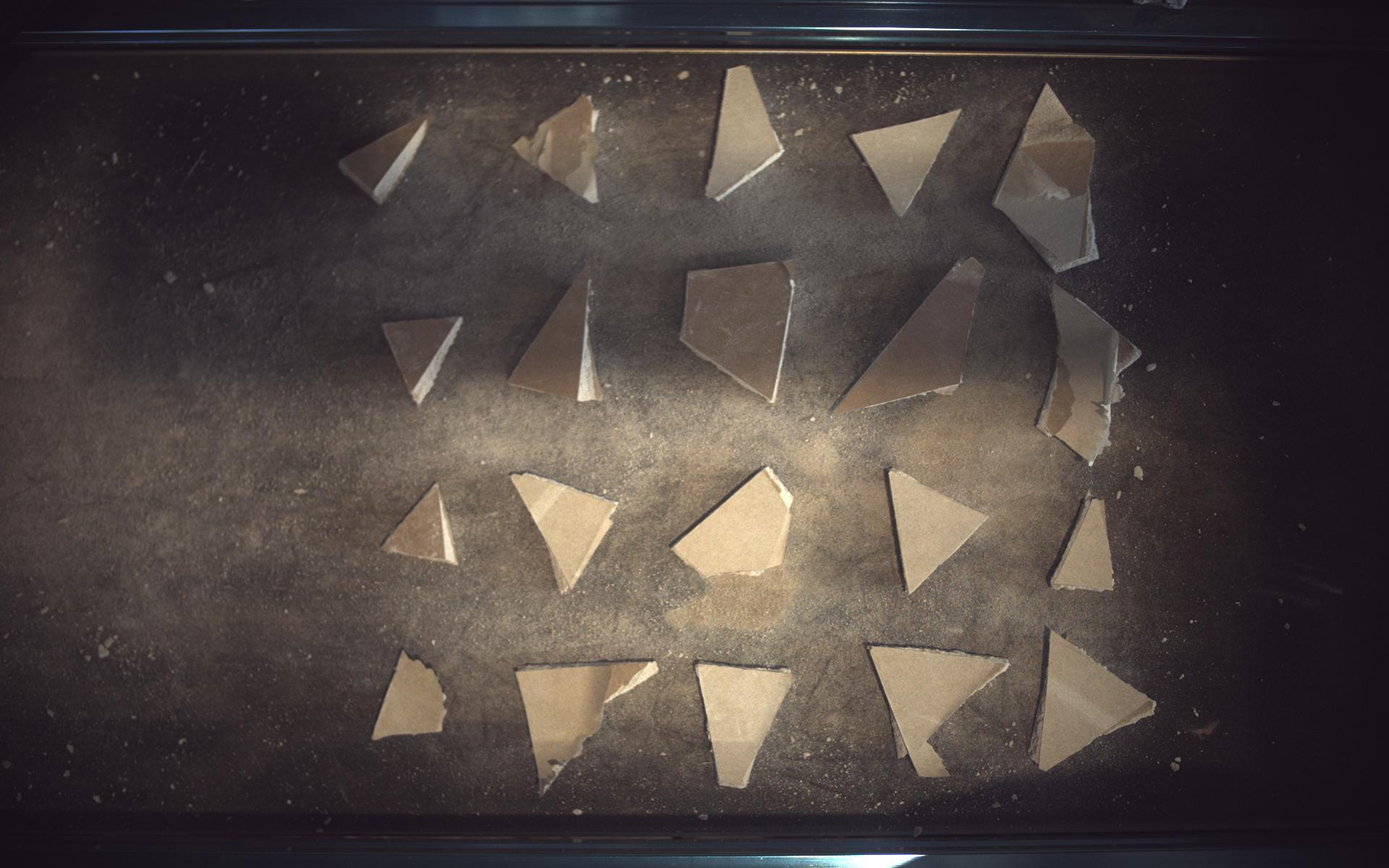gypsum_board: (836, 257, 987, 413), (995, 84, 1101, 271), (517, 662, 659, 796), (1039, 284, 1144, 465), (869, 647, 1011, 779), (1032, 630, 1158, 773), (681, 259, 798, 403), (509, 258, 603, 401), (674, 467, 794, 578), (511, 473, 618, 595), (890, 470, 990, 594), (697, 664, 795, 790), (853, 109, 963, 216), (706, 64, 786, 200), (514, 93, 599, 203), (338, 114, 429, 203), (383, 316, 463, 405), (372, 651, 446, 741), (382, 483, 459, 566), (1053, 497, 1117, 592)
